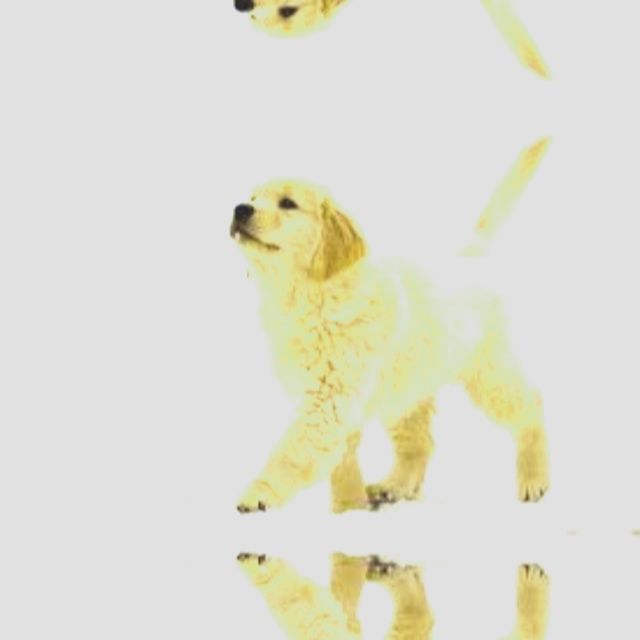dog: (213, 122, 580, 512), (213, 0, 580, 92), (213, 553, 580, 640)
